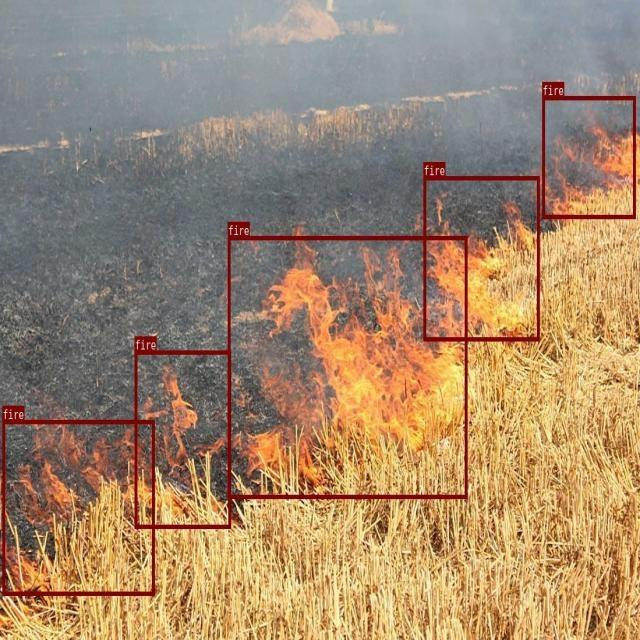fire: (227, 236, 467, 498), (2, 420, 154, 594), (423, 176, 539, 340), (135, 350, 231, 527), (542, 96, 635, 218)
